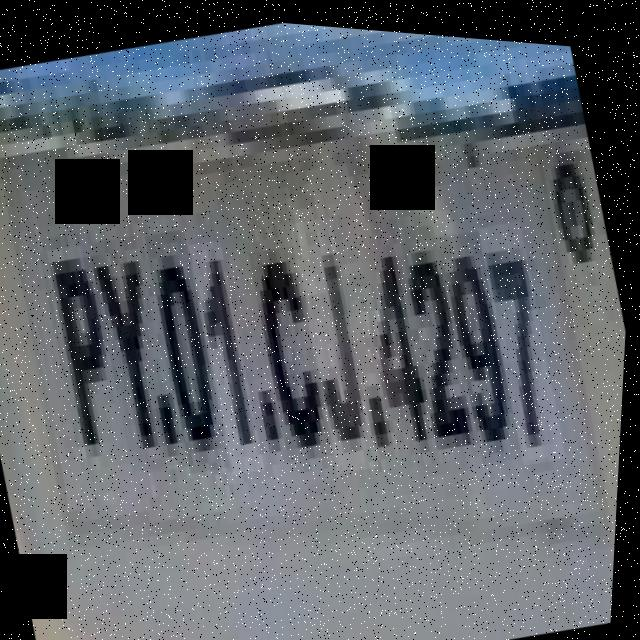0: (137, 223, 244, 472)
1: (182, 233, 279, 472)
4: (338, 207, 457, 473)
7: (470, 209, 580, 458)
9: (432, 221, 535, 458)
C: (242, 237, 347, 459)
J: (281, 208, 393, 470)
P: (29, 219, 144, 471)
Y: (81, 229, 193, 472)
